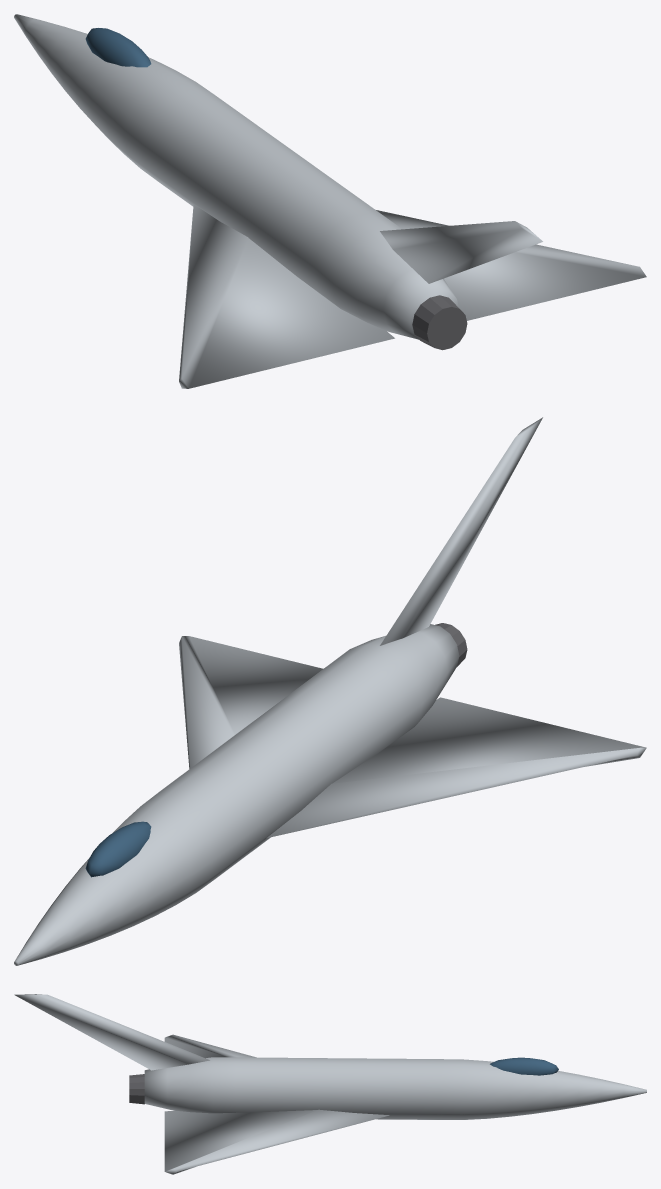
File: mirage2000.fbx
3 renders of one model, top to bottom at view 1: azimuth 30°, elevation 25°; view 2: azimuth 150°, elevation 25°; view 3: azimuth 270°, elevation 25°, orthographic. The views are drawn at different scales.
Visible parts, largest first — view 1: Body, Detail, Canopy; view 2: Body, Canopy; view 3: Body, Canopy, Detail.
Boxes of the visible parts, x1=… form: Body: x1=14, y1=14, x2=646, y2=388; Detail: x1=412, y1=295, x2=467, y2=350; Canopy: x1=85, y1=28, x2=151, y2=67; Body: x1=14, y1=417, x2=646, y2=965; Canopy: x1=85, y1=821, x2=151, y2=877; Body: x1=14, y1=994, x2=646, y2=1174; Canopy: x1=490, y1=1057, x2=558, y2=1075; Detail: x1=129, y1=1074, x2=144, y2=1104.
Bounding box in the file's own units: 910 × 387 × 1814.
